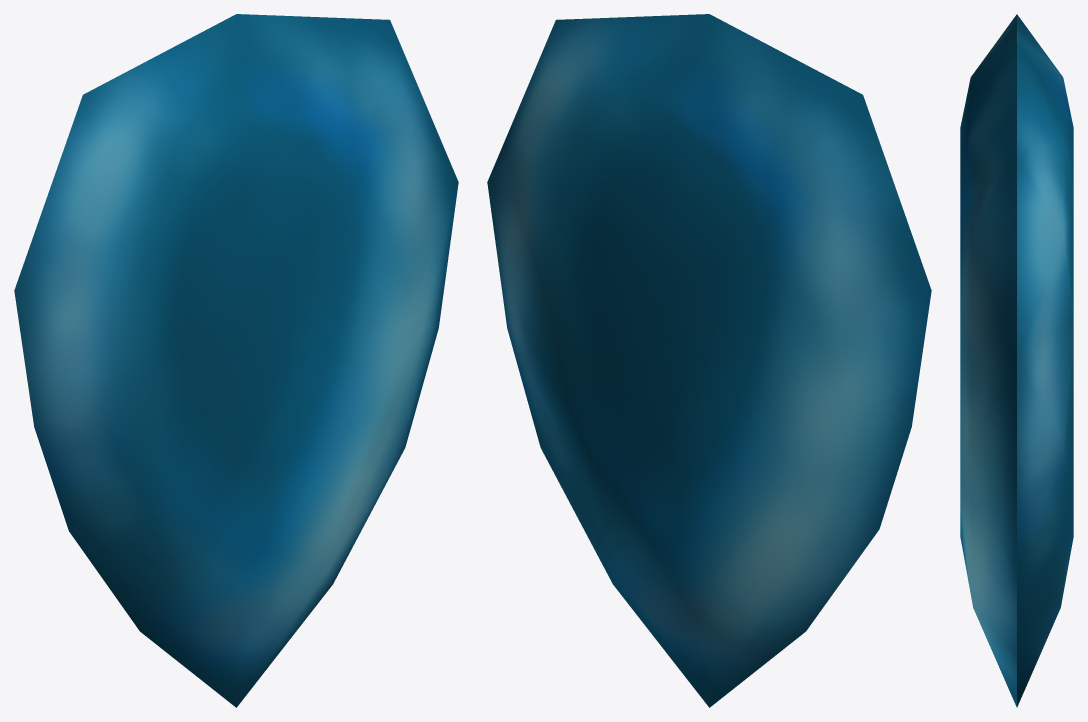
File: Water Crystal.fbx
3 renders of one model, left to right at view 1: azimuth 30°, elevation 25°; view 2: azimuth 150°, elevation 25°; view 3: azimuth 270°, elevation 25°, orthographic. The views are drawn at different scales.
Parts seen in each view (by area): view 1: Oil_Tank; view 2: Oil_Tank; view 3: Oil_Tank.
Boxes of the visible parts, <box> form: Oil_Tank: <box>14,14,458,707</box>; Oil_Tank: <box>487,14,931,707</box>; Oil_Tank: <box>960,14,1073,707</box>.
Bounding box in the file's own units: 160 × 239 × 36.98.
